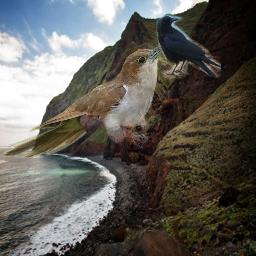Crow: (156, 13, 221, 79)
Cuckoo: (1, 43, 172, 158)
